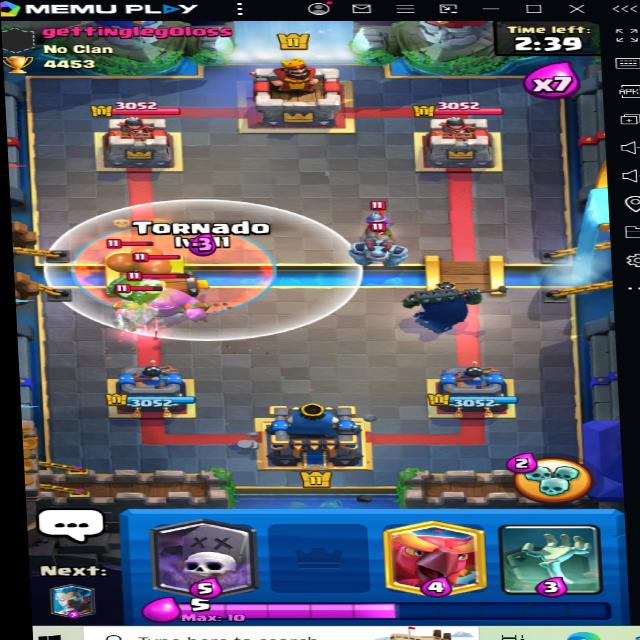Egolem: (104, 272, 215, 328)
Megaminion: (343, 228, 416, 273)
Musketeer: (336, 193, 412, 239)
Royalghost: (106, 287, 181, 339)
Skeletonbarrel: (100, 238, 165, 307)
